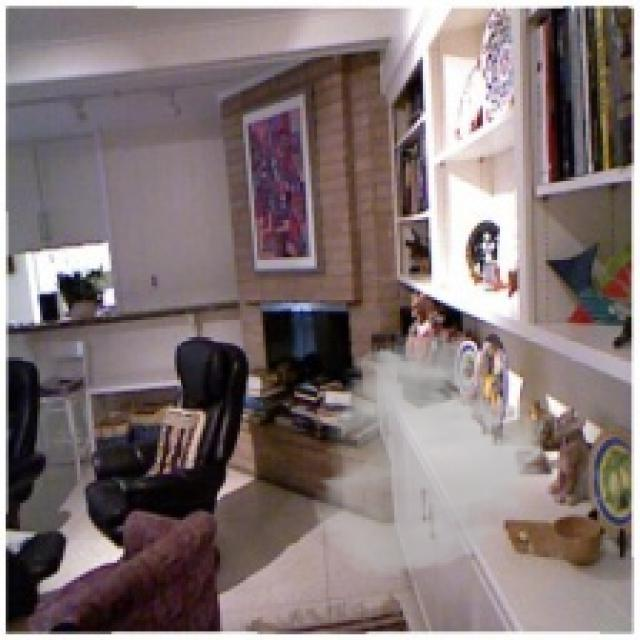smoke: (308, 329, 563, 580)
